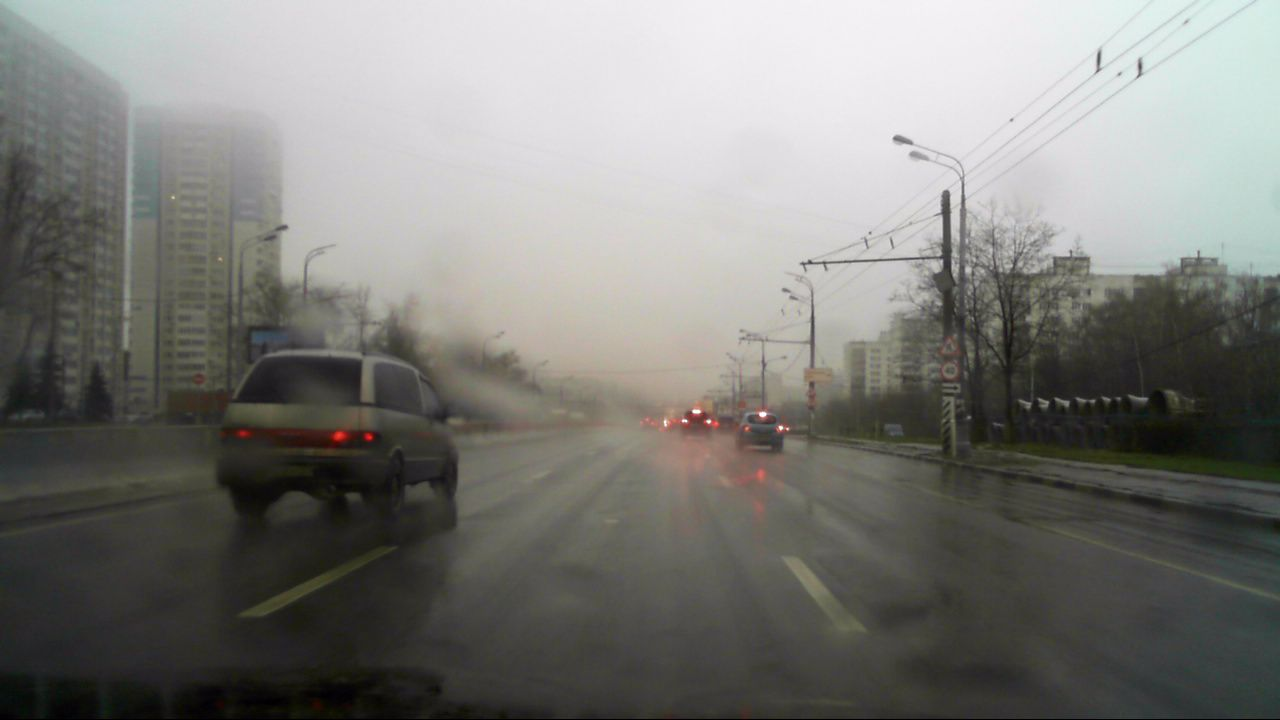speed_warning_40: (941, 361, 959, 379)
